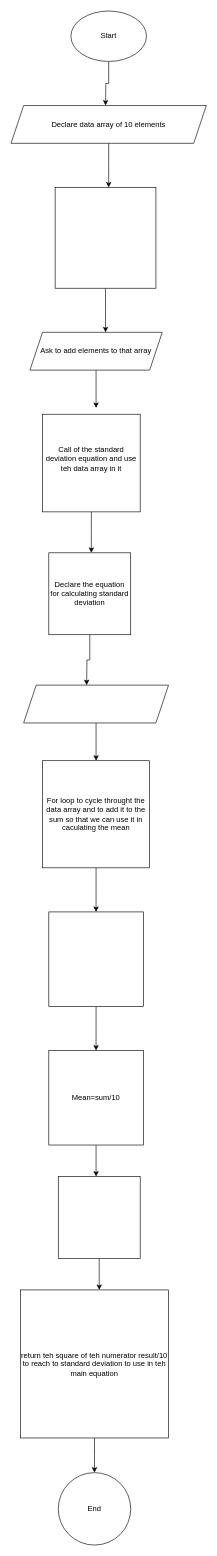
The diagram is 217 pixels wide and 1556 high, and some of its shapes have lost their labels. Each missing label, with the centre of its shape:
"Declare the sum=0 and the mean =0 and teh numerator_result=0.0" goes at point 96,703.
"For loop to add elements to that array" goes at point 105,237.
"For loop to calcaulte the numerator result" goes at point 99,1217.
"Sum=sum+data[i]" goes at point 95,958.
